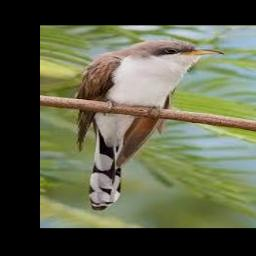Cuckoo: (76, 39, 224, 210)
